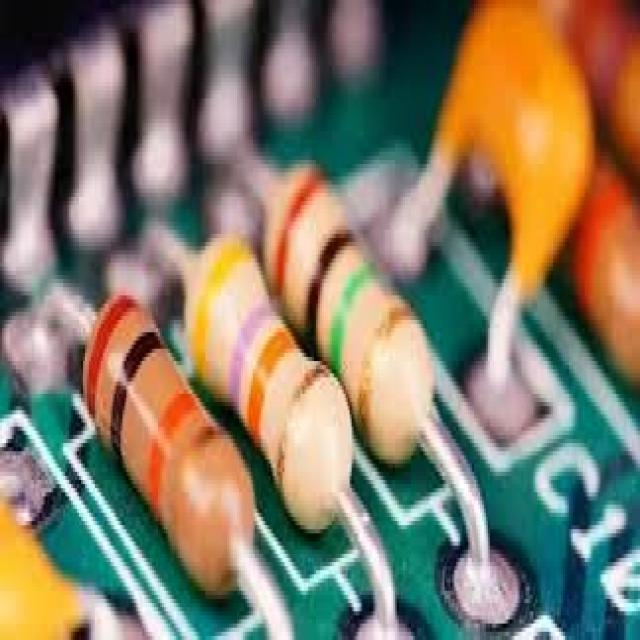Capacitor: (386, 0, 594, 389)
Resistor: (264, 168, 489, 566), (186, 238, 395, 639), (84, 294, 292, 640)
